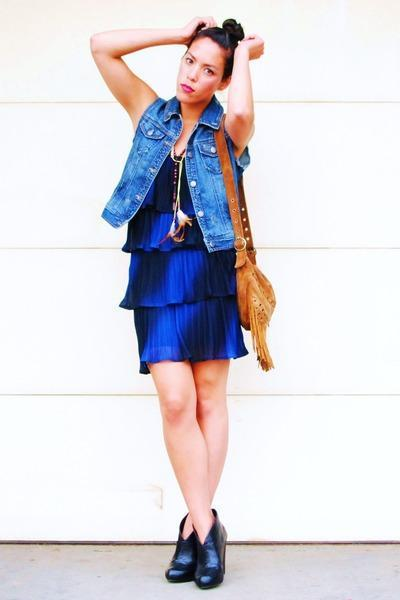bag: (214, 114, 275, 371)
dress: (119, 149, 249, 371)
jacket: (101, 96, 249, 251)
shoe: (165, 516, 251, 589)
